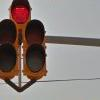Traffic light: (4, 4, 50, 83)
